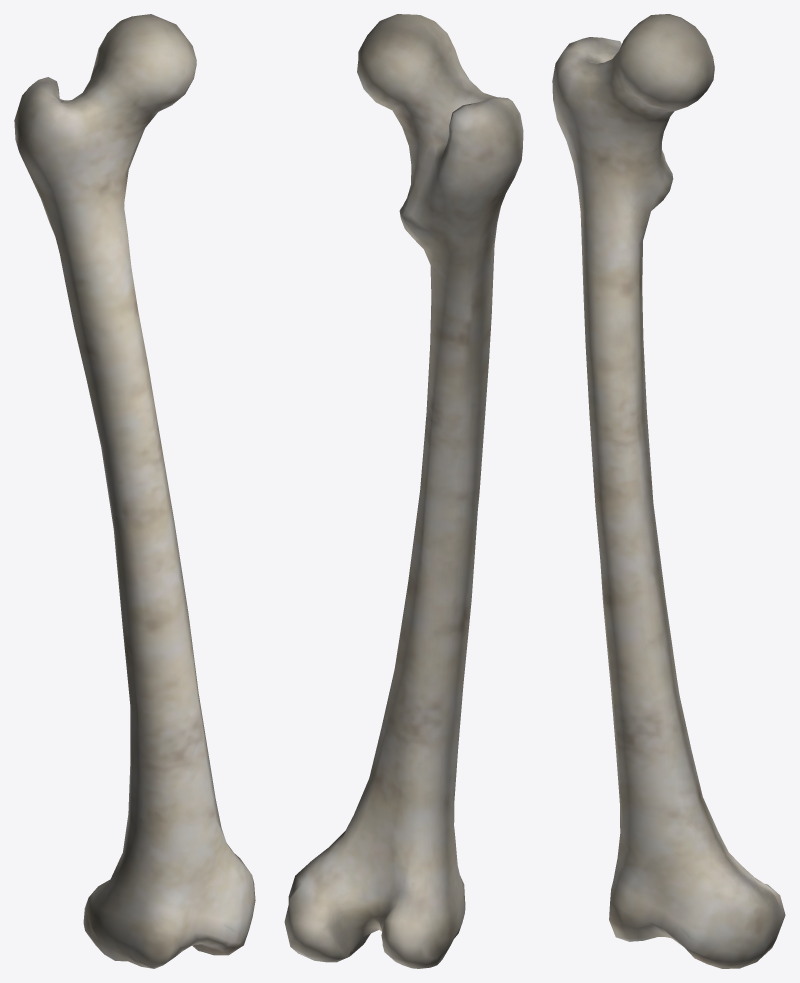
Rendered from bone-femur.glb.
The picture shows the model from 3 angles, left to right: view 1: azimuth 30°, elevation 25°; view 2: azimuth 150°, elevation 25°; view 3: azimuth 330°, elevation 25°; orthographic projection. The views are drawn at different scales.
Visible parts, largest first — view 1: Right_femur; view 2: Right_femur; view 3: Right_femur.
Boxes of the visible parts, x1,y1,x2,y2 form: Right_femur: (14,14,255,968); Right_femur: (284,14,523,968); Right_femur: (552,14,785,968).
Bounding box in the file's own units: 0.1159 × 0.4637 × 0.0602.
1 material, 1 textured.
